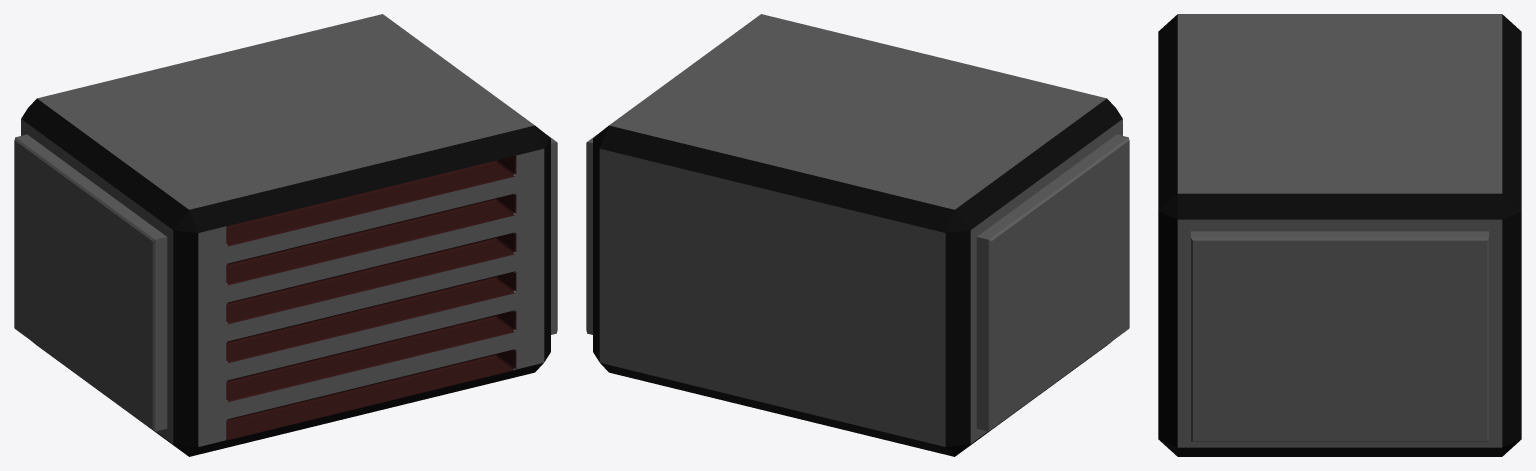
The model's file is AirCon.FBX.
The picture shows the model from 3 angles, left to right: view 1: azimuth 30°, elevation 25°; view 2: azimuth 150°, elevation 25°; view 3: azimuth 270°, elevation 25°; orthographic projection. The views are drawn at different scales.
Parts seen in each view (by area): view 1: Box001; view 2: Box001; view 3: Box001.
Boxes of the visible parts, box(x1,y1,x2,y2) form: Box001: box(14, 14, 557, 456); Box001: box(586, 14, 1129, 456); Box001: box(1158, 14, 1521, 456).
Size of the model in its own units: 38.21 by 22.28 by 27.87.
